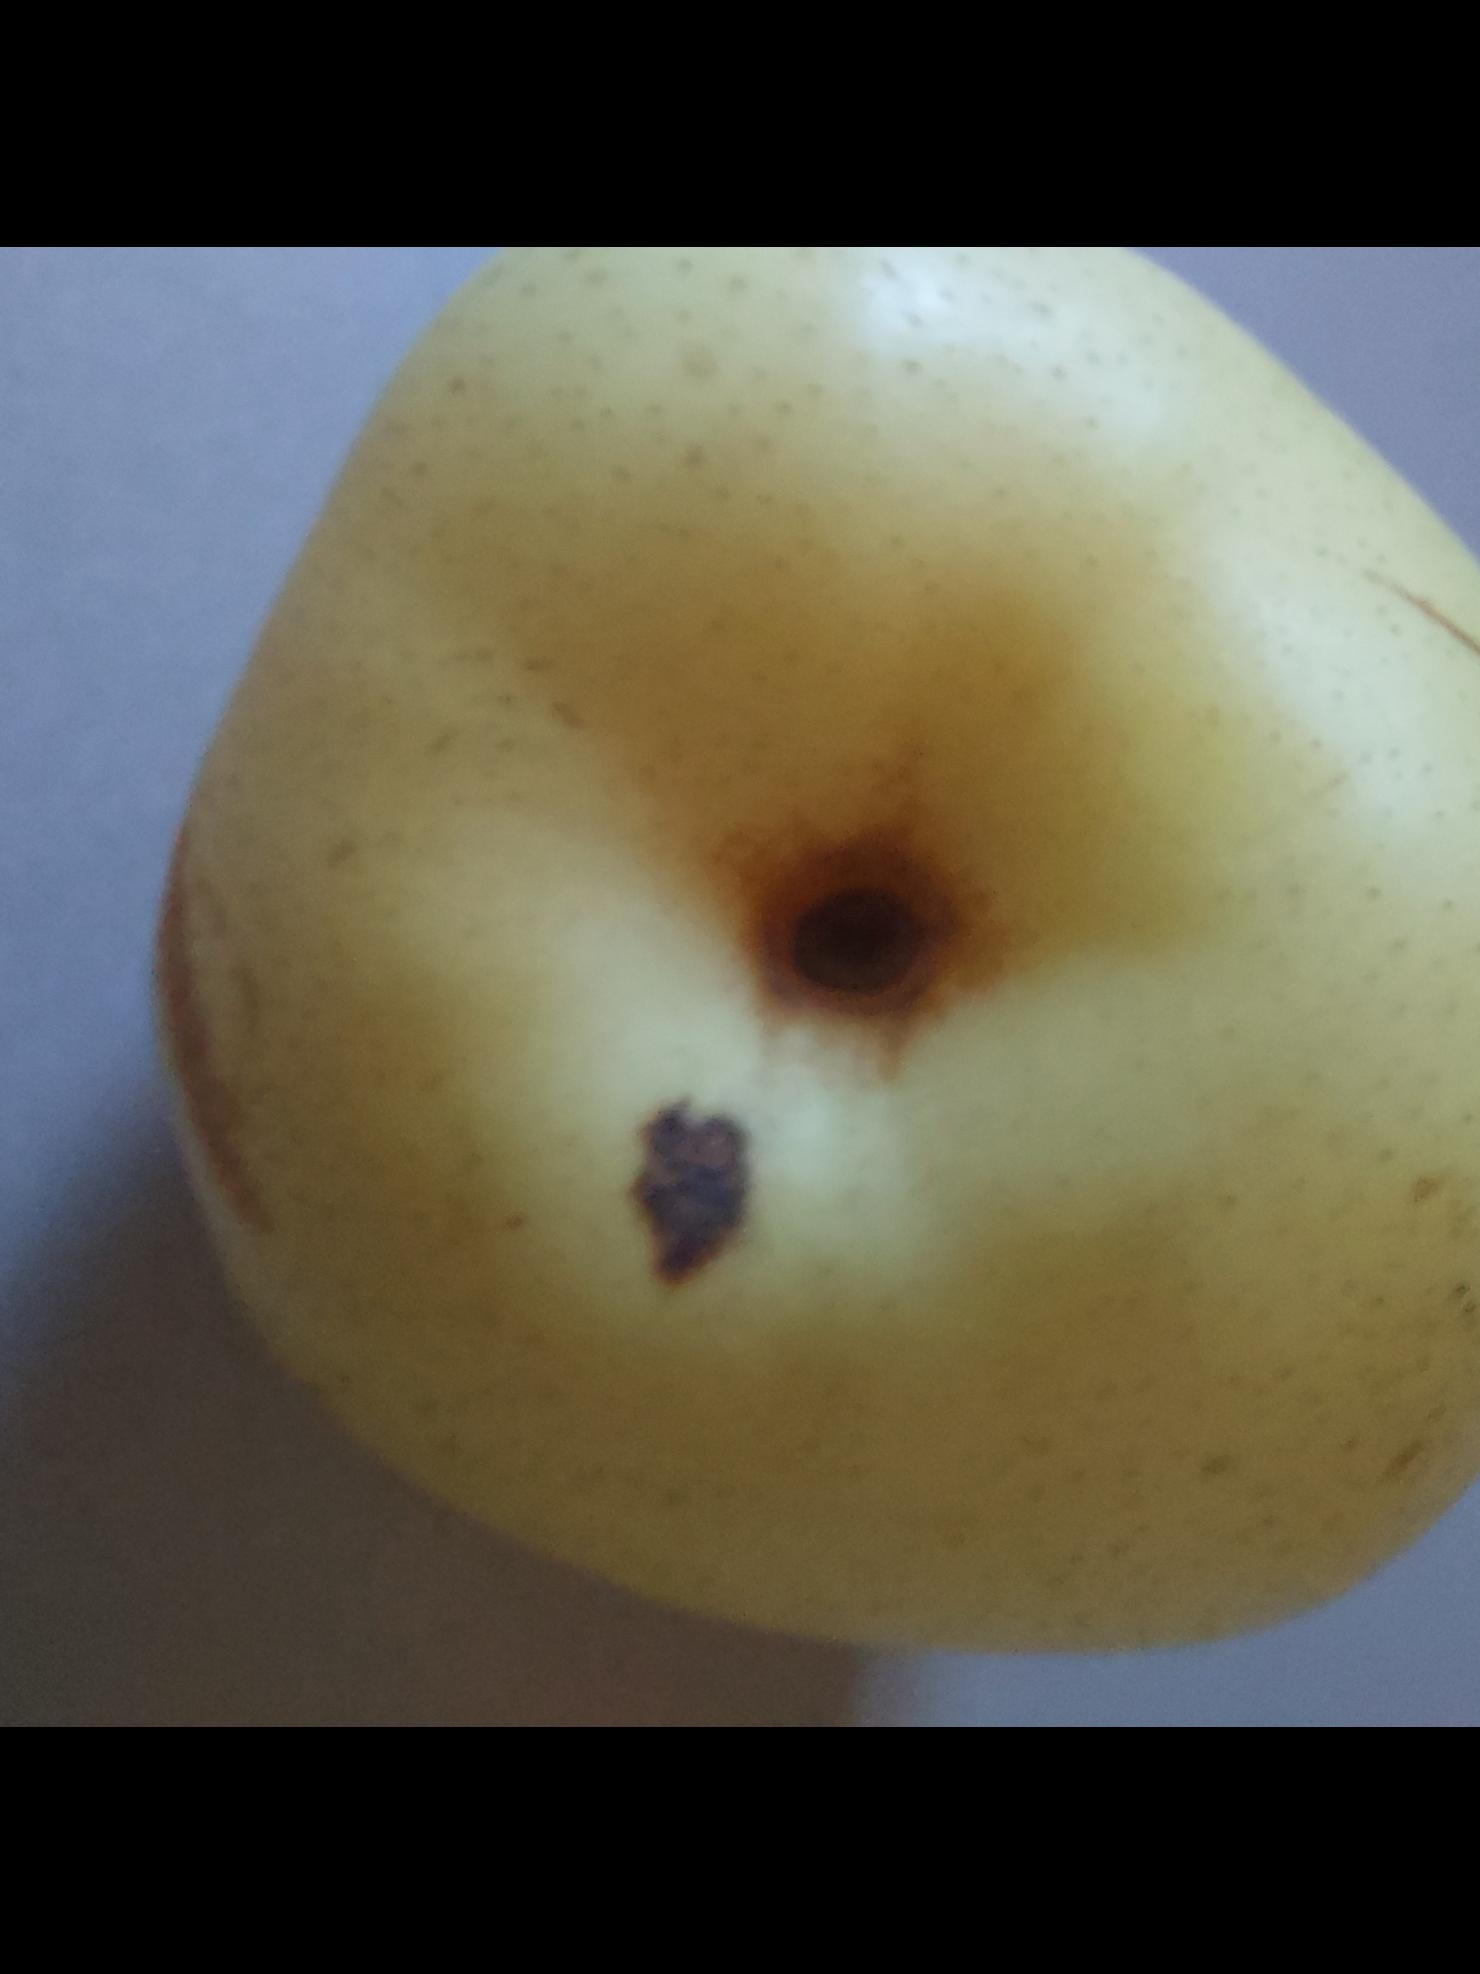Good Pear: (54, 247, 1480, 1727)
